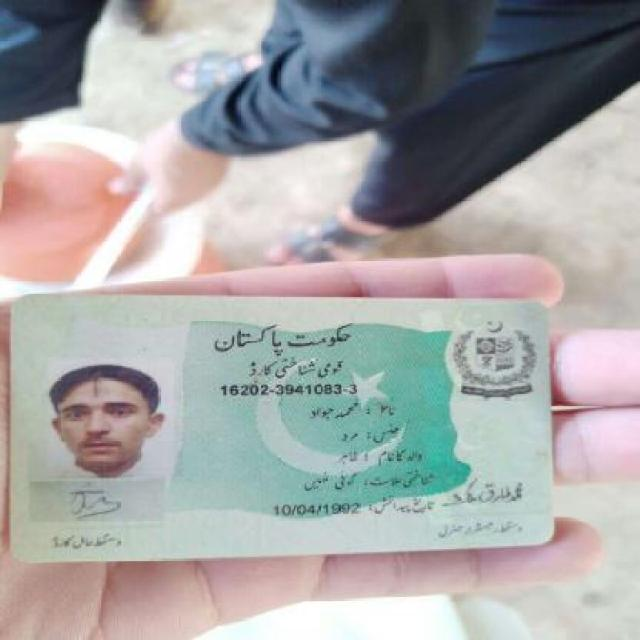Front: (4, 284, 570, 556)
